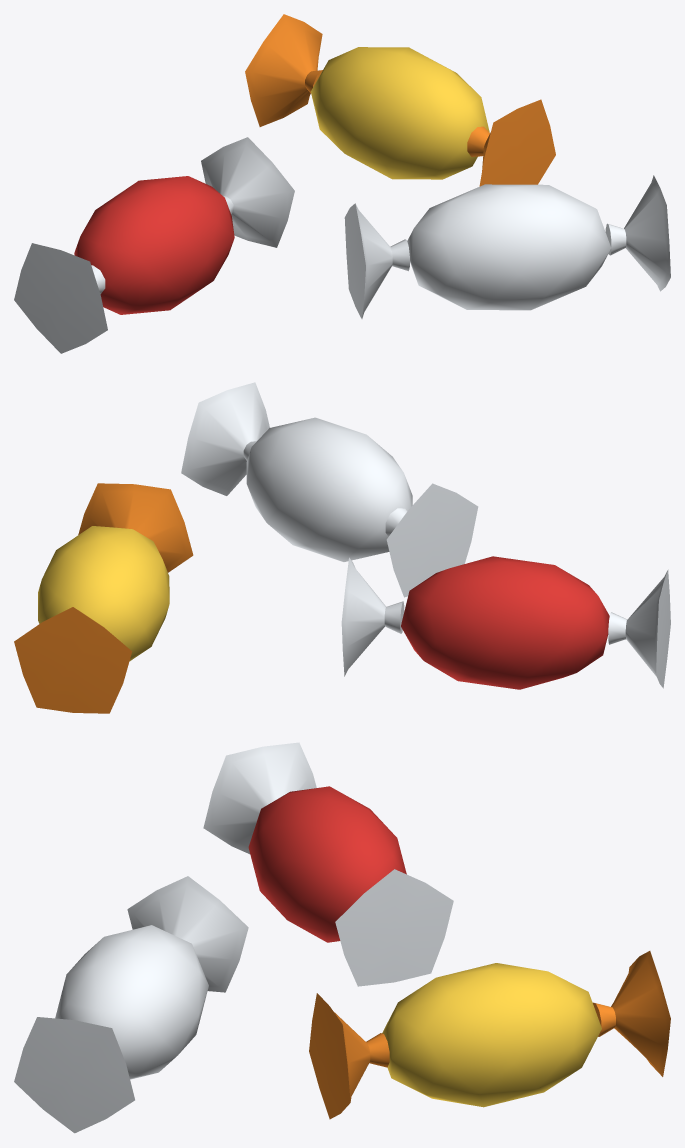
The model's file is WrappedCandy.fbx.
The picture shows the model from 3 angles, top to bottom: view 1: azimuth 30°, elevation 25°; view 2: azimuth 150°, elevation 25°; view 3: azimuth 270°, elevation 25°; orthographic projection. The views are drawn at different scales.
Visible parts, largest first — view 1: WrappedCandy; view 2: WrappedCandy; view 3: WrappedCandy.
Boxes of the visible parts, x1,y1,x2,y2 form: WrappedCandy: (14, 14, 670, 353); WrappedCandy: (14, 382, 670, 713); WrappedCandy: (14, 742, 670, 1133).
Size of the model in its own units: 0.7809 by 0.16 by 0.7328.
Materials: 2 (2 with a texture image).
